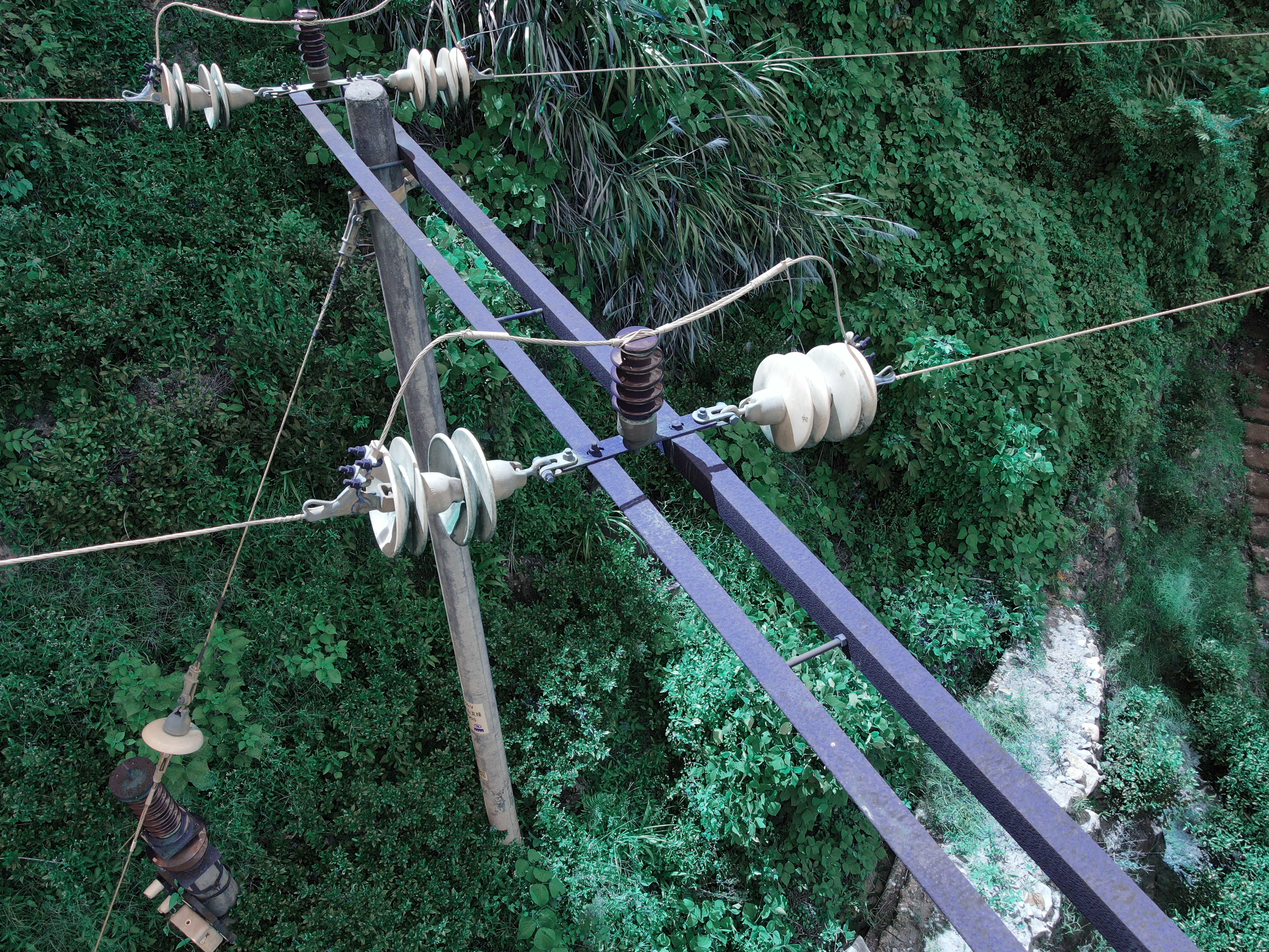severe_soiling_no_discharge_whole: (362, 426, 529, 555), (739, 341, 883, 457), (158, 60, 259, 135), (387, 45, 470, 114)
